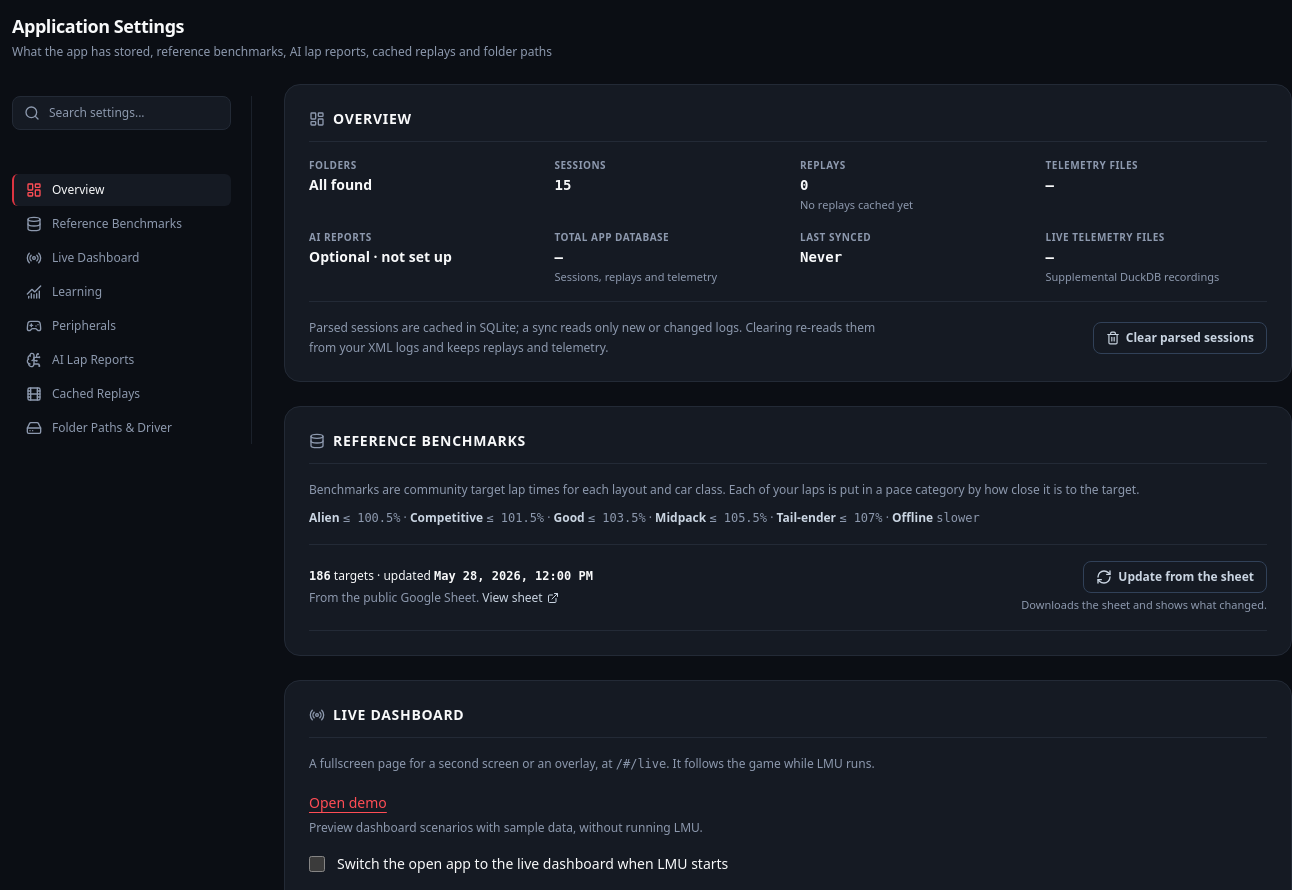
Scenario: Settings component › updates diff and renders changelog upon clicking update reference laptimes
Expected: the text "No replays cached yet" is shown, top-left (800, 197), bottom-right (913, 212)
Click the button "Update from the sheet" at (1175, 577), box top-left (1083, 561), bottom-right (1267, 593)
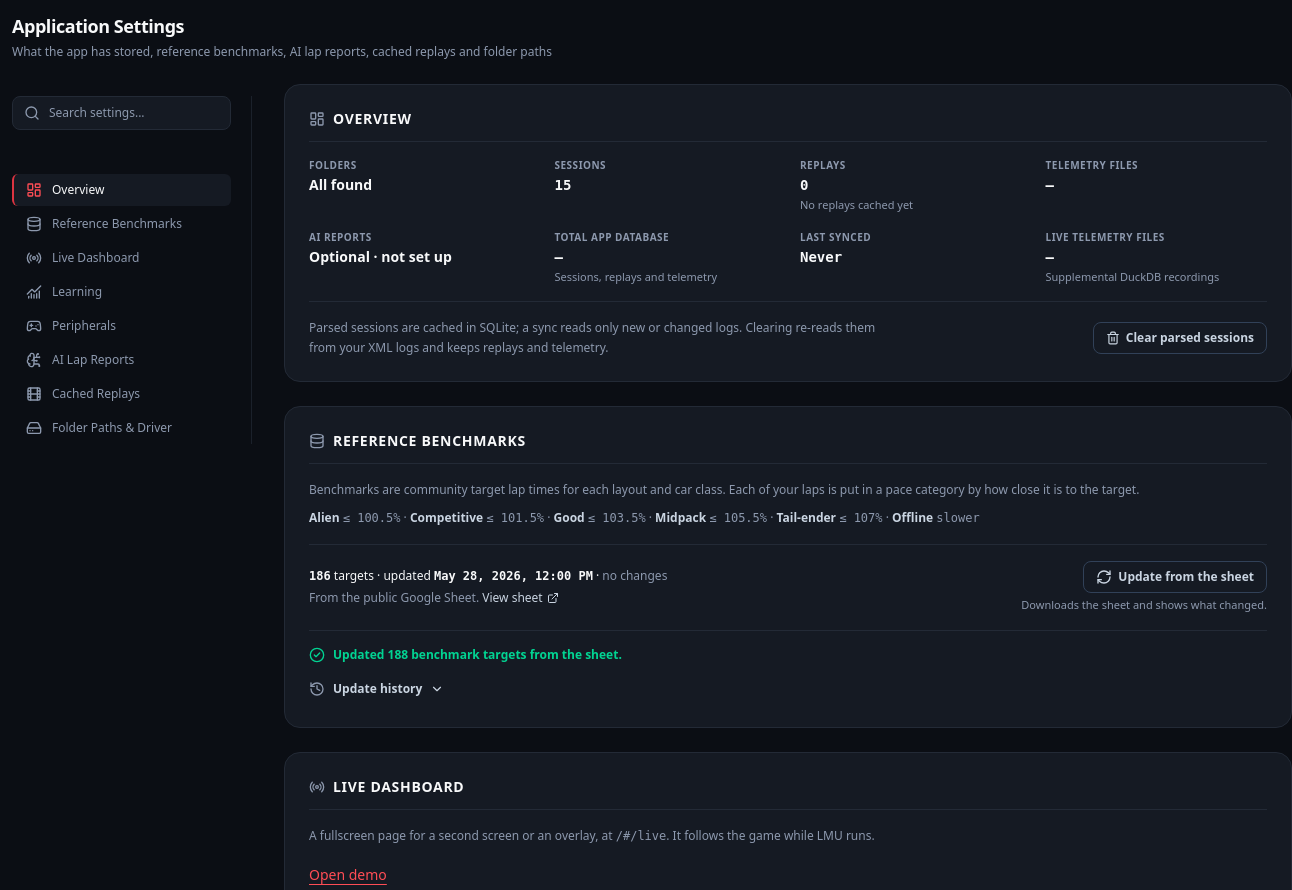
Expected: the text "no changes" is shown once, top-left (602, 567), bottom-right (667, 584)
